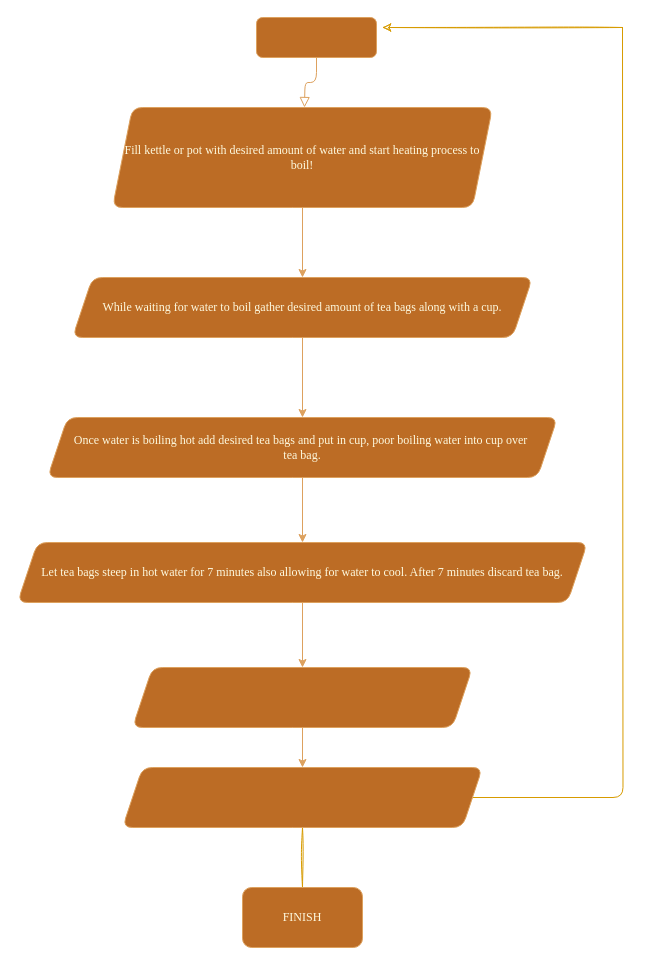
The diagram is 648 pixels wide and 965 high, and some of its shapes have lost their labels. Here are the shapes that lost their labels. From the top down, the box of each, then its label:
(256, 16, 376, 58): Start Making Tea
(132, 666, 472, 728): If desired add extra flavor like sugar or milk.
(122, 766, 482, 828): Enjoy freshly brewed tea! Repeat if more cups of tea are desired!
